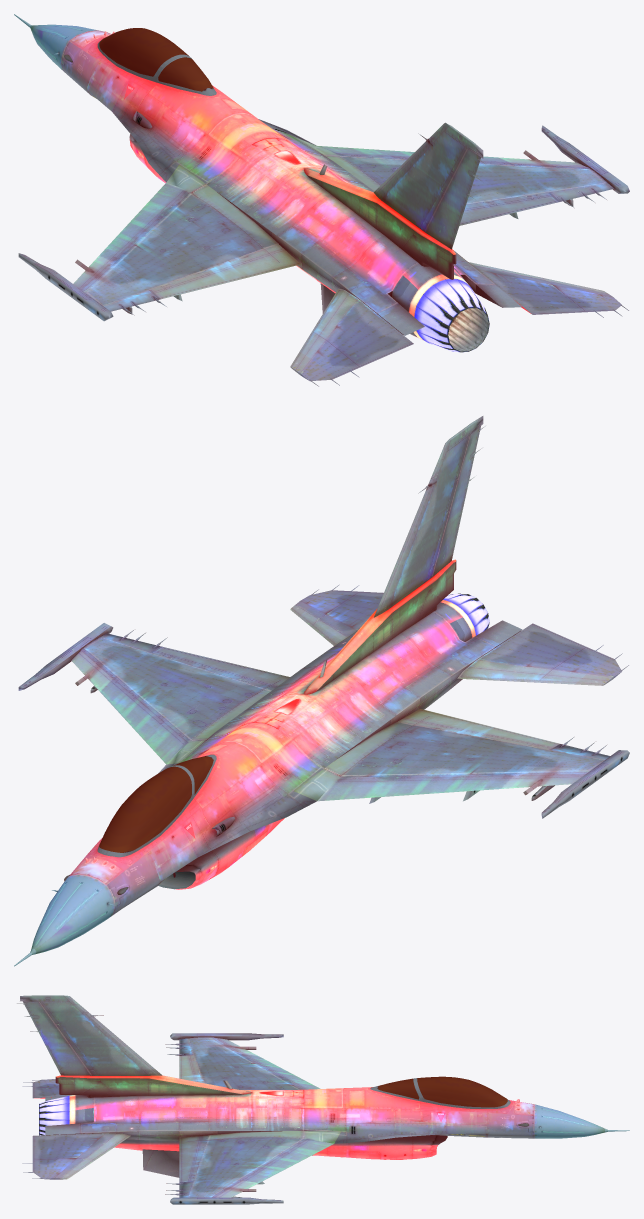
The picture shows the model from 3 angles, top to bottom: view 1: azimuth 30°, elevation 25°; view 2: azimuth 150°, elevation 25°; view 3: azimuth 270°, elevation 25°; orthographic projection. The views are drawn at different scales.
Parts seen in each view (by area): view 1: F-2_LOD0, F-2_ElevatorL01, F-2_EngineL01, F-2_ElevatorR01, F-2_Glass01, F-2_AileronL01, F-2_VoletL01, F-2_RudderL01, F-2_AileronR01, F-2_VoletR01, F-2_Canopy01, F-2_BrakeL01 (+1 smaller); view 2: F-2_LOD0, F-2_ElevatorL01, F-2_Glass01, F-2_VoletL01, F-2_VoletR01, F-2_ElevatorR01, F-2_AileronL01, F-2_AileronR01, F-2_RudderL01, F-2_Canopy01, F-2_EngineL01; view 3: F-2_LOD0, F-2_ElevatorR01, F-2_Glass01, F-2_RudderL01, F-2_VoletR01, F-2_AileronR01, F-2_EngineL01, F-2_VoletL01, F-2_Canopy01, F-2_ElevatorL01, F-2_AileronL01, F-2_BrakeR01.
Boxes of the visible parts, <box> form: F-2_LOD0: <box>14,14,629,340</box>; F-2_ElevatorL01: <box>290,288,413,386</box>; F-2_EngineL01: <box>414,279,489,352</box>; F-2_ElevatorR01: <box>468,262,628,317</box>; F-2_Glass01: <box>99,28,213,91</box>; F-2_AileronL01: <box>150,244,300,299</box>; F-2_VoletL01: <box>73,182,186,289</box>; F-2_RudderL01: <box>425,149,485,249</box>; F-2_AileronR01: <box>459,192,560,225</box>; F-2_VoletR01: <box>318,146,585,166</box>; F-2_Canopy01: <box>86,37,190,92</box>; F-2_BrakeL01: <box>378,303,424,335</box>; F-2_LOD0: <box>14,416,629,966</box>; F-2_ElevatorL01: <box>457,623,628,685</box>; F-2_Glass01: <box>99,756,213,852</box>; F-2_VoletL01: <box>317,774,585,801</box>; F-2_VoletR01: <box>71,651,187,764</box>; F-2_ElevatorR01: <box>290,584,383,645</box>; F-2_AileronL01: <box>397,709,559,749</box>; F-2_AileronR01: <box>150,646,289,690</box>; F-2_RudderL01: <box>433,426,485,576</box>; F-2_Canopy01: <box>86,765,205,866</box>; F-2_EngineL01: <box>443,593,489,635</box>; F-2_LOD0: <box>20,995,629,1204</box>; F-2_ElevatorR01: <box>22,1133,130,1179</box>; F-2_Glass01: <box>378,1076,507,1107</box>; F-2_RudderL01: <box>17,1001,90,1075</box>; F-2_VoletR01: <box>215,1139,333,1197</box>; F-2_AileronR01: <box>179,1135,209,1182</box>; F-2_EngineL01: <box>39,1096,69,1135</box>; F-2_VoletL01: <box>215,1038,320,1089</box>; F-2_Canopy01: <box>409,1078,513,1113</box>; F-2_ElevatorL01: <box>22,1079,73,1098</box>; F-2_AileronL01: <box>179,1055,203,1082</box>; F-2_BrakeR01: <box>45,1123,79,1135</box>.
Size of the model in its own units: 9.56 by 4.63 by 14.98.
Materials: 4 (4 with a texture image).
